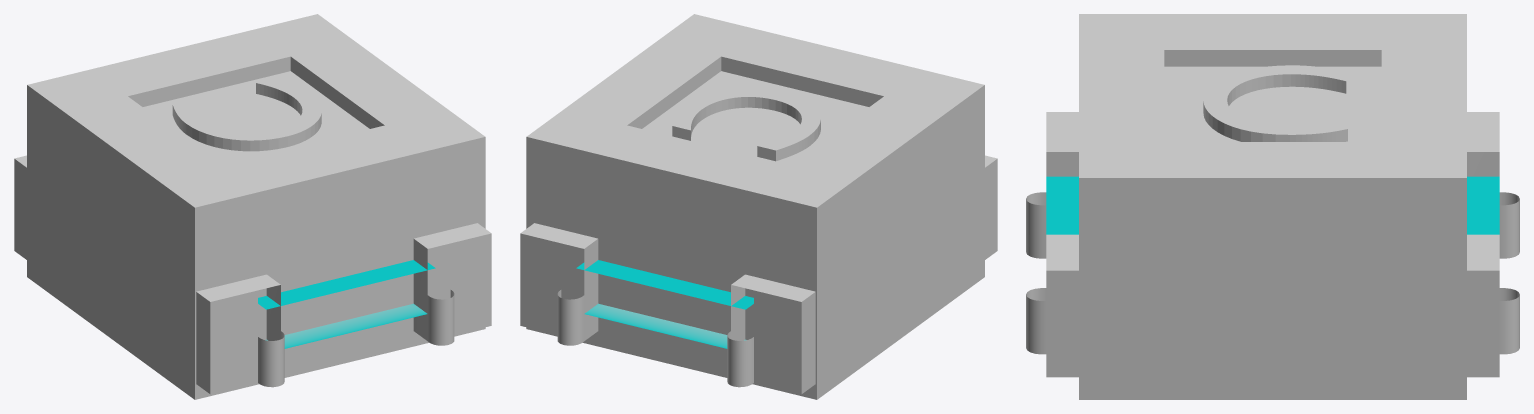
Rendered from CrystalGeneratorDefaultInternalVariant.gltf.
The picture shows the model from 3 angles, left to right: view 1: azimuth 30°, elevation 25°; view 2: azimuth 150°, elevation 25°; view 3: azimuth 270°, elevation 25°; orthographic projection. The views are drawn at different scales.
Visible parts, largest first — view 1: CrystalGenerator_Default_Main_LOD0; view 2: CrystalGenerator_Default_Main_LOD0; view 3: CrystalGenerator_Default_Main_LOD0.
Boxes of the visible parts, x1,y1,x2,y2 form: CrystalGenerator_Default_Main_LOD0: [14, 14, 491, 399]; CrystalGenerator_Default_Main_LOD0: [520, 14, 997, 399]; CrystalGenerator_Default_Main_LOD0: [1026, 14, 1519, 399].
Bounding box in the file's own units: 0.8557 × 0.541 × 1.09.
